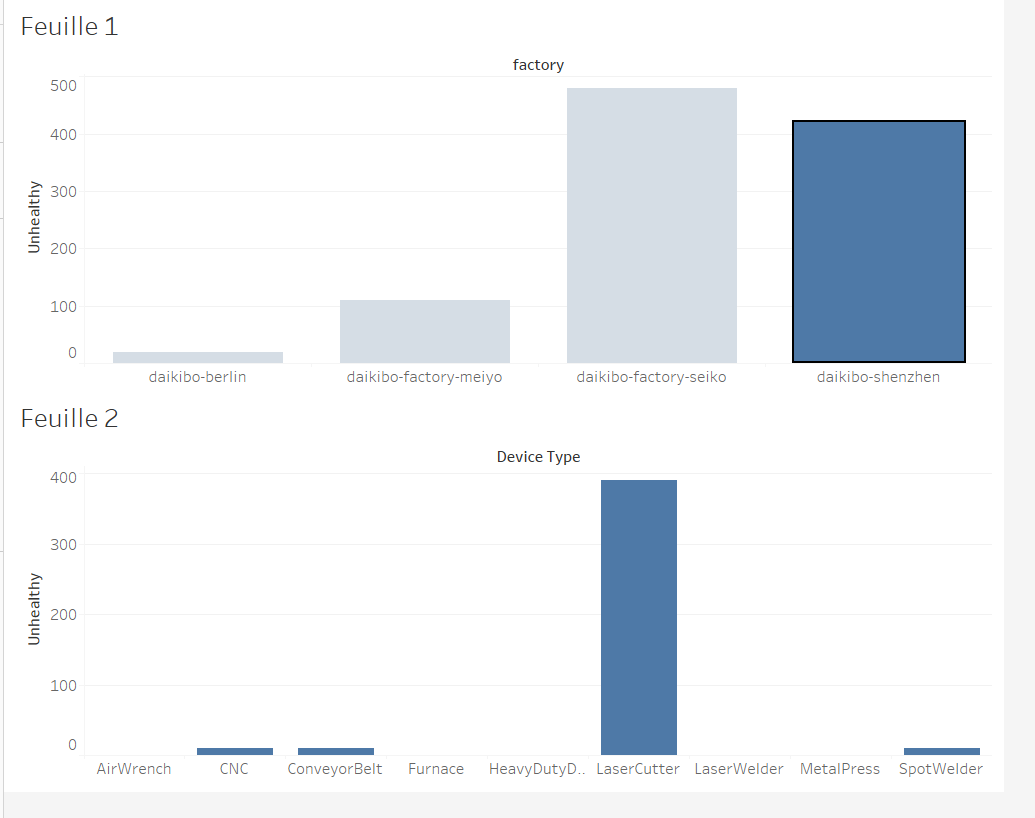

The dashboard page shown, as its layout file describes it:
{"tool":"tableau","page":{"name":"Tableau de bord 1","canvas":[1000,800],"ordinal":0},"visuals":[{"type":"worksheet","title":"Feuille 1","mark":"Automatic","rows":["Calculation_1532912763388755977"],"cols":["factory"],"box":[8,8,984,392]},{"type":"worksheet","title":"Feuille 2","mark":"Automatic","rows":["Calculation_1532912763388755977"],"cols":["deviceType"],"box":[8,400,984,392]}]}

Visuals, with their boxes in screenshot pixels (x1, y1, x2, y2), scaled from the page's 1000x800 canvas onto the 1035x818 screenshot:
"Feuille 1" worksheet: <box>8,8,1027,409</box>
"Feuille 2" worksheet: <box>8,409,1027,810</box>
